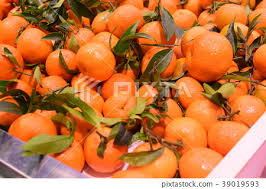orange: (187, 35, 232, 79), (165, 118, 207, 156), (75, 43, 115, 80), (138, 44, 175, 83), (106, 90, 140, 127)
